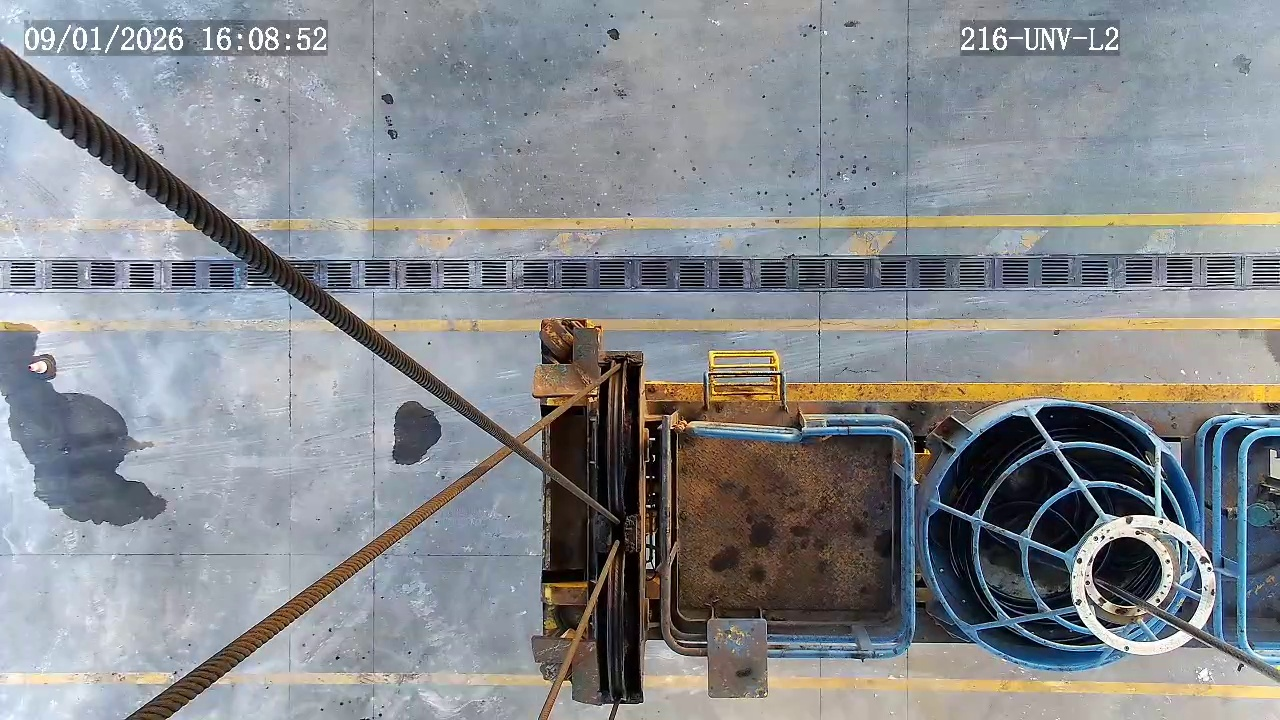left: (1071, 514, 1215, 655)
